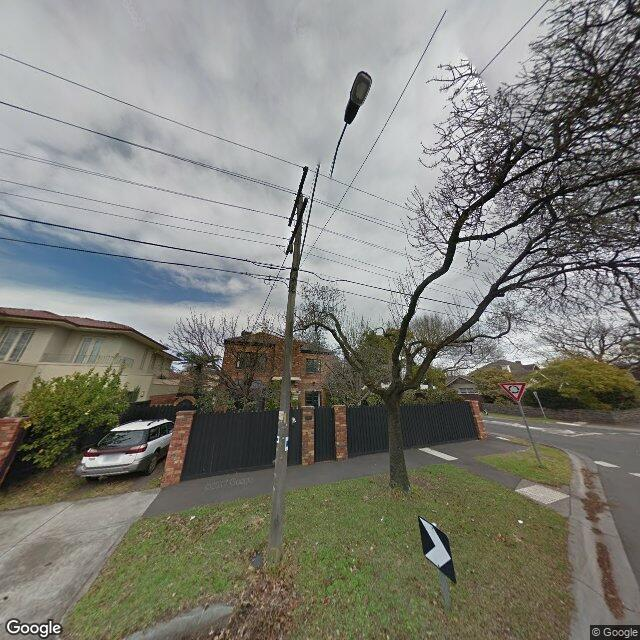crossarm: (285, 197, 309, 254), (288, 166, 309, 226)
streetlight: (295, 70, 373, 272)
timber-pole: (265, 192, 303, 564)
